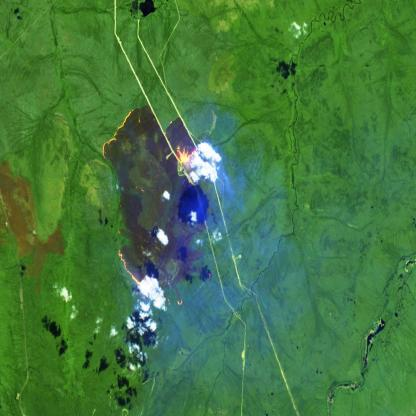fire: (101, 99, 210, 312)
